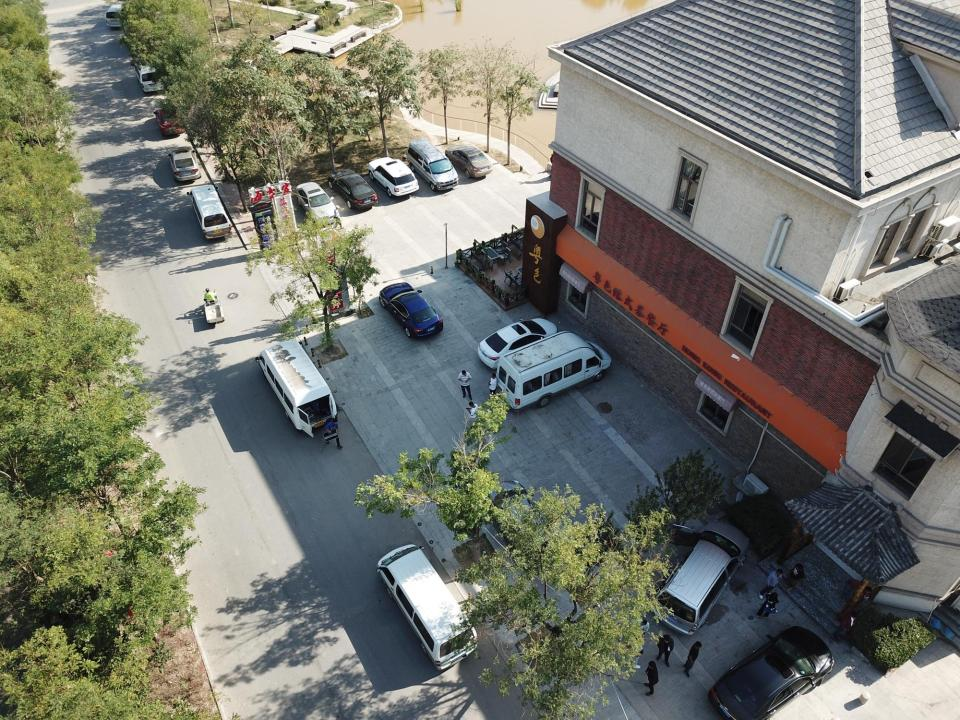car: (707, 625, 835, 720), (482, 480, 561, 570), (477, 317, 561, 370), (378, 282, 444, 338), (367, 156, 420, 198), (327, 168, 378, 210), (296, 182, 340, 226), (444, 144, 493, 178), (168, 146, 202, 184), (153, 106, 186, 137)
van: (376, 544, 480, 670), (650, 519, 750, 636), (493, 331, 612, 410), (254, 340, 338, 440), (406, 138, 459, 192), (186, 184, 233, 240), (132, 52, 166, 93), (105, 3, 128, 29)
